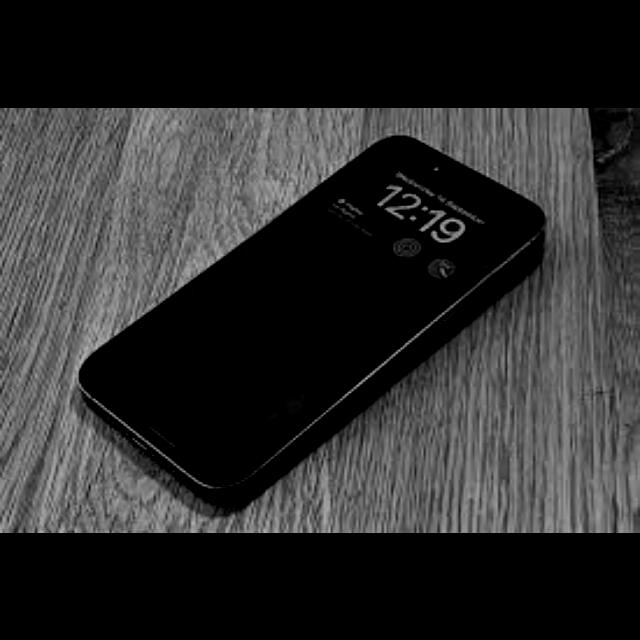fake: (67, 131, 546, 508)
